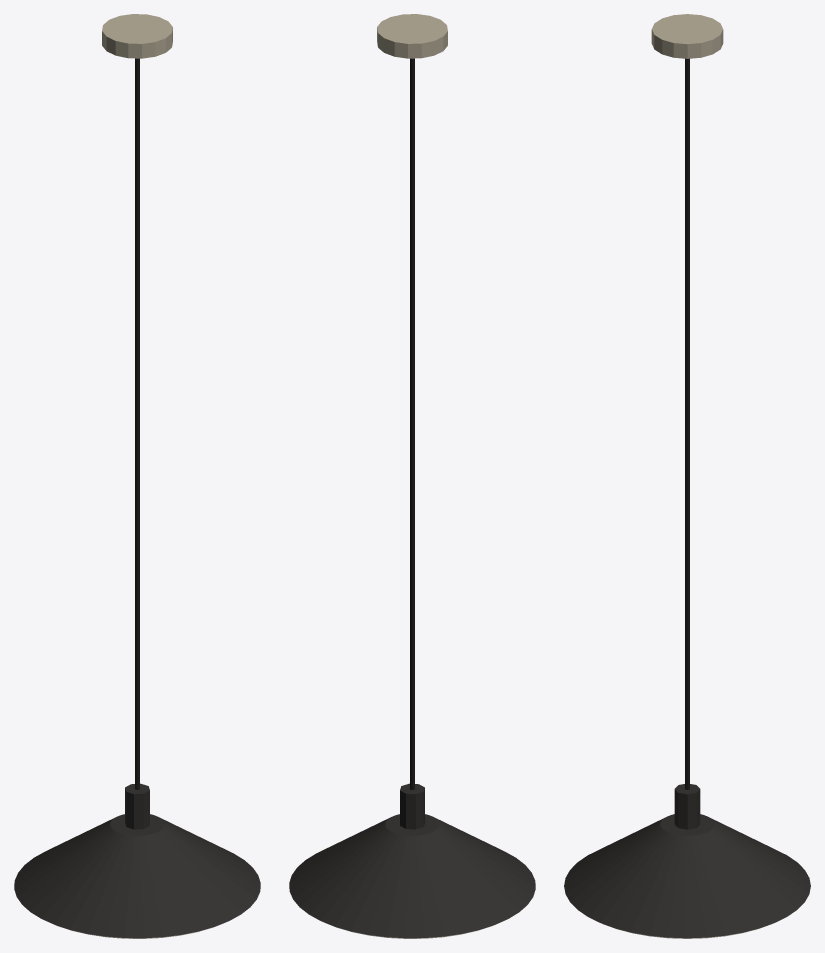
Rendered from ceiling-pendant-enamel.glb.
3 renders of one model, left to right at view 1: azimuth 30°, elevation 25°; view 2: azimuth 150°, elevation 25°; view 3: azimuth 270°, elevation 25°, orthographic.
Visible parts, largest first — view 1: plastic-dark, rubber, plastic-light; view 2: plastic-dark, rubber, plastic-light; view 3: plastic-dark, rubber, plastic-light.
Boxes of the visible parts, <box> form: plastic-dark: <box>14,783,260,938</box>; rubber: <box>135,58,139,789</box>; plastic-light: <box>102,14,172,58</box>; plastic-dark: <box>289,783,535,938</box>; rubber: <box>410,58,414,789</box>; plastic-light: <box>377,14,447,58</box>; plastic-dark: <box>564,784,810,938</box>; rubber: <box>685,58,689,789</box>; plastic-light: <box>651,14,723,58</box>.
Size of the model in its own units: 0.38 by 1.5 by 0.38.
